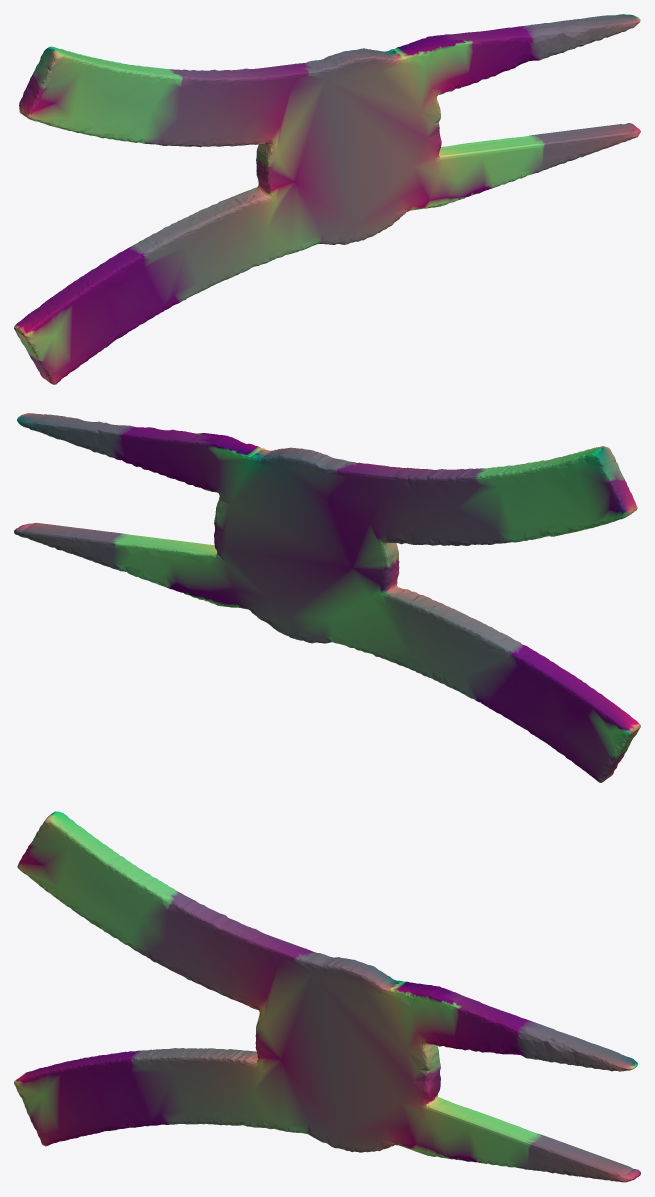
File: scissor-5.off.obj
The picture shows the model from 3 angles, top to bottom: view 1: azimuth 30°, elevation 25°; view 2: azimuth 150°, elevation 25°; view 3: azimuth 330°, elevation 25°; orthographic projection.
Size of the model in its own units: 1.59 by 0.8125 by 0.0577.
